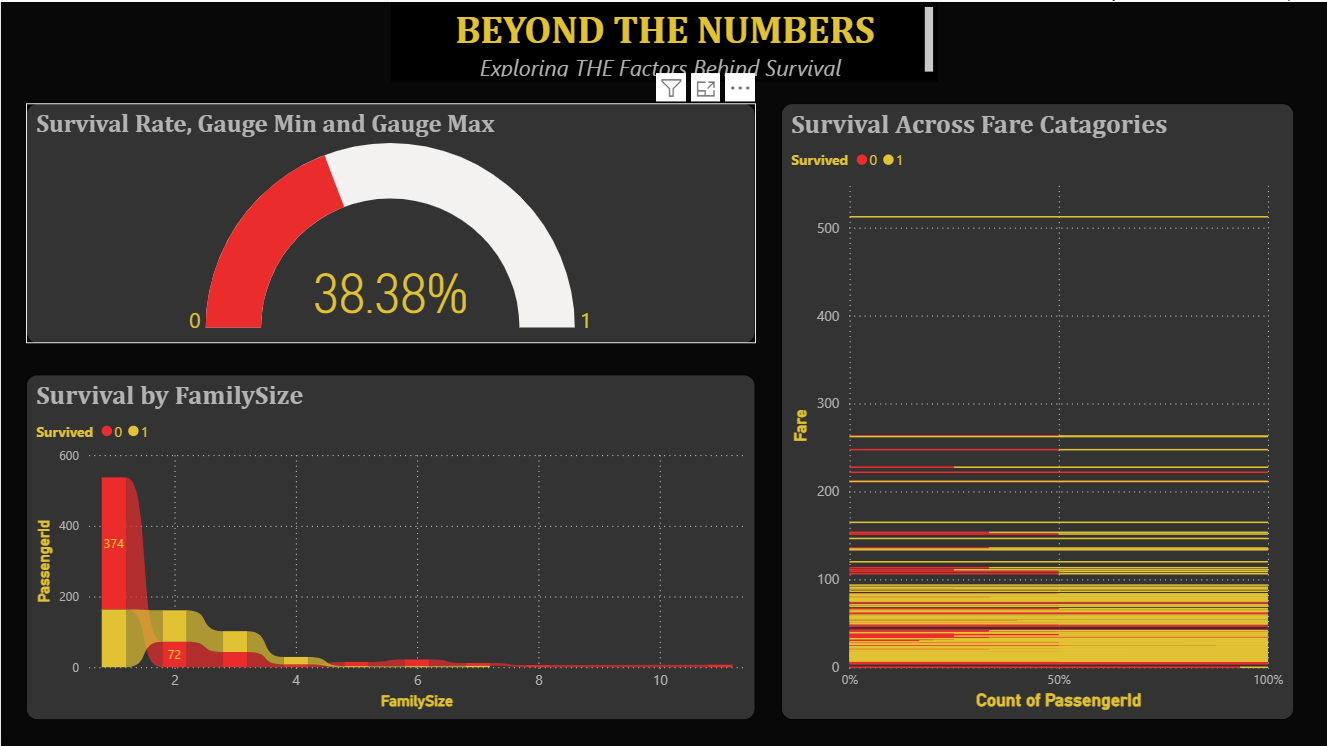

The dashboard page shown, as its layout file describes it:
{"tool":"powerbi","page":{"name":"Page 2","canvas":[1280,720],"ordinal":1},"visuals":[{"type":"textbox","box":[376,0,528.3,76.8],"z":0},{"type":"hundredPercentStackedBarChart","title":"Survival Across Fare Catagories","fields":{"Category":["cleaned_titanic_EDA.Fare"],"Y":["CountNonNull(cleaned_titanic_EDA.PassengerId)"],"Series":["cleaned_titanic_EDA.Survived"]},"box":[753.3,97.4,495.4,595.5],"z":3000},{"type":"ribbonChart","title":"Survival by FamilySize ","fields":{"Category":["cleaned_titanic_EDA.FamilySize"],"Y":["CountNonNull(cleaned_titanic_EDA.PassengerId)"],"Series":["cleaned_titanic_EDA.Survived"]},"box":[24.7,359.5,703.9,333.4],"z":3001},{"type":"gauge","fields":{"Y":["cleaned_titanic_EDA.Survival Rate"],"MaxValue":["cleaned_titanic_EDA.Gauge Max"],"MinValue":["cleaned_titanic_EDA.Gauge Min"]},"box":[24.7,97.4,703.9,231.9],"z":3002}]}

Visuals, with their boxes in screenshot pixels (x1, y1, x2, y2), scaled from the page's 1280x720 canvas onto the 1327x746 screenshot:
textbox: <box>390,0,938,80</box>
"Survival Across Fare Catagories" hundredPercentStackedBarChart: <box>781,101,1295,718</box>
"Survival by FamilySize " ribbonChart: <box>26,372,755,718</box>
gauge - cleaned_titanic_EDA.Survival Rate x cleaned_titanic_EDA.Gauge Max: <box>26,101,755,341</box>
